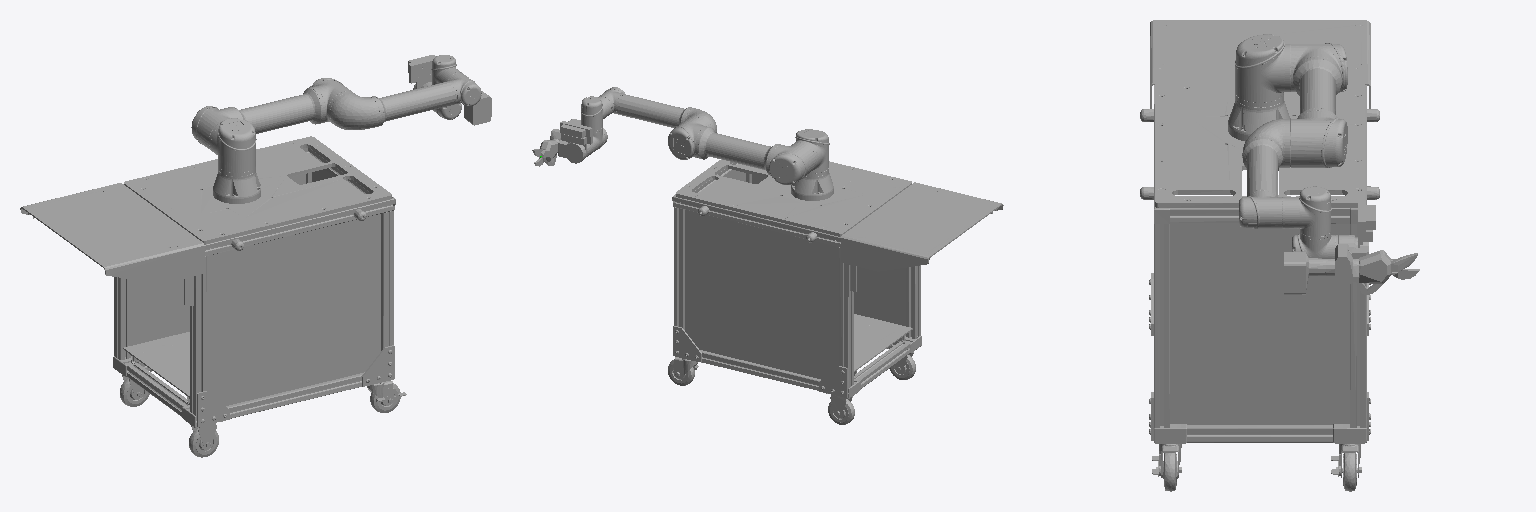
robot.urdf — ur5e:
<?xml version="1.0" ?>
<!-- =================================================================================== -->
<!-- |    This document was autogenerated by xacro from [local-path]/catkin_ws/src/fmauch_universal_robot/ur_e_description/urdf/ur5e_robot.urdf.xacro | -->
<!-- |    EDITING THIS FILE BY HAND IS NOT RECOMMENDED                                 | -->
<!-- =================================================================================== -->
<robot name="ur5e" xmlns:xacro="http://ros.org/wiki/xacro">
  <gazebo>
    <plugin filename="libgazebo_ros_control.so" name="ros_control">
      <!--robotNamespace>/</robotNamespace-->
      <!--robotSimType>gazebo_ros_control/DefaultRobotHWSim</robotSimType-->
    </plugin>
    <!--
    <plugin name="gazebo_ros_power_monitor_controller" filename="libgazebo_ros_power_monitor.so">
      <alwaysOn>true</alwaysOn>
      <updateRate>1.0</updateRate>
      <timeout>5</timeout>
      <powerStateTopic>power_state</powerStateTopic>
      <powerStateRate>10.0</powerStateRate>
      <fullChargeCapacity>87.78</fullChargeCapacity>
      <dischargeRate>-474</dischargeRate>
      <chargeRate>525</chargeRate>
      <dischargeVoltage>15.52</dischargeVoltage>
      <chargeVoltage>16.41</chargeVoltage>
    </plugin>
-->
  </gazebo>
  <!-- measured from model -->
  <!-- link lengths used in model -->
  <!-- manually measured -->
  <link name="mount_base"/>
  <joint name="y_gantry" type="fixed">
    <parent link="mount_base"/>
    <child link="mount"/>
    <origin rpy="0.0 0.0 0.0" xyz="0.0 0.0 0.0"/>
    <axis xyz="0 1 0"/>
    <limit effort="330.0" lower="-0.25" upper="0.25" velocity="0.2"/>
    <dynamics damping="0.0" friction="0.0"/>
  </joint>
  <link name="mount">
    <visual>
<!--	  <origin rpy="0.0 0.0 0.0" xyz="-0.02 0.0 0.0"/>-->
	  <origin rpy="0.0 0.0 0.0" xyz="0 0.0 0.0"/>
      <geometry>
        <mesh filename="ur5e/visual/robot_cart.obj"/>
      </geometry>
      <material name="LightGrey">
        <color rgba="0.7 0.7 0.7 1.0"/>
      </material>
      <material name="LightGrey">
        <color rgba="0.7 0.7 0.7 1.0"/>
      </material>
    </visual>
    <collision>
<!--	  <origin rpy="0.0 0.0 0.0" xyz="-0.02 0.0 0.0"/>-->
	  <origin rpy="0.0 0.0 0.0" xyz="0 0.0 -0.3786"/>
      <geometry>
<!--        <box size="0.04 0.5 0.5"/>-->
        <box size="0.5 0.5 0.75711"/>
      </geometry>
    </collision>
    <inertial>
      <mass value="4.0"/>
      <origin rpy="0 0 0" xyz="0.0 0.0 0.0"/>
      <inertia ixx="0.006106" ixy="0.0" ixz="0.0" iyy="0.006106" iyz="0.0" izz="0.01125"/>
    </inertial>
  </link>
  <joint name="mount_base_joint" type="fixed">
    <parent link="mount"/>
    <child link="base_link"/>
<!--    <origin rpy="0.0 1.570796 0.0" xyz="0.0 0.0 0.0"/>-->
    <origin rpy="0.0 0.0 -1.5708" xyz="0.0 0.0 0.0"/>
    <axis xyz="0 0 1"/>
  </joint>
  <link name="base_link">
    <visual>
      <origin rpy="0 0 3.14159265359" xyz="0 0 0"/>
      <geometry>
        <mesh filename="ur5e/visual/base.dae"/>
      </geometry>
      <material name="LightGrey">
        <color rgba="0.7 0.7 0.7 1.0"/>
      </material>
    </visual>
    <collision>
      <origin rpy="0 0 3.14159265359" xyz="0 0 0"/>
      <geometry>
        <mesh filename="ur5e/collision/base.stl"/>
      </geometry>
    </collision>
    <inertial>
      <mass value="4.0"/>
      <origin rpy="0 0 0" xyz="0.0 0.0 0.0"/>
      <inertia ixx="0.00443333156" ixy="0.0" ixz="0.0" iyy="0.00443333156" iyz="0.0" izz="0.0072"/>
    </inertial>
  </link>
  <joint name="shoulder_pan_joint" type="revolute">
    <parent link="base_link"/>
    <child link="shoulder_link"/>
    <origin rpy="0 0 3.14159265774" xyz="0 0 0.162509611124"/>
    <axis xyz="0 0 1"/>
    <limit effort="150.0" lower="-6.28318530718" upper="6.28318530718" velocity="3.14"/>
    <dynamics damping="0.0" friction="0.0"/>
  </joint>
  <link name="shoulder_link">
    <visual>
      <origin rpy="0 0 3.14159265359" xyz="0 0 0"/>
      <geometry>
        <mesh filename="ur5e/visual/shoulder.dae"/>
      </geometry>
      <material name="LightGrey">
        <color rgba="0.7 0.7 0.7 1.0"/>
      </material>
    </visual>
    <collision>
      <origin rpy="0 0 3.14159265359" xyz="0 0 0"/>
      <geometry>
        <mesh filename="ur5e/collision/shoulder.stl"/>
      </geometry>
    </collision>
    <inertial>
      <mass value="3.7"/>
      <origin rpy="0 0 0" xyz="0.0 0.0 0.0"/>
      <inertia ixx="0.010267495893" ixy="0.0" ixz="0.0" iyy="0.010267495893" iyz="0.0" izz="0.00666"/>
    </inertial>
  </link>
  <joint name="shoulder_lift_joint" type="revolute">
    <parent link="shoulder_link"/>
    <child link="upper_arm_link"/>
    <origin rpy="1.57201212277 0 -4.22293331334e-06" xyz="0.000175875481034 0 0"/>
    <axis xyz="0 0 1"/>
    <limit effort="150.0" lower="-6.28318530718" upper="6.28318530718" velocity="3.14"/>
    <dynamics damping="0.0" friction="0.0"/>
  </joint>
  <link name="upper_arm_link">
    <visual>
      <origin rpy="1.57079632679 0 -1.57079632679" xyz="0 0 0.138"/>
      <geometry>
        <mesh filename="ur5e/visual/upperarm.dae"/>
      </geometry>
      <material name="LightGrey">
        <color rgba="0.7 0.7 0.7 1.0"/>
      </material>
    </visual>
    <collision>
      <origin rpy="1.57079632679 0 -1.57079632679" xyz="0 0 0.138"/>
      <geometry>
        <mesh filename="ur5e/collision/upperarm.stl"/>
      </geometry>
    </collision>
    <inertial>
      <mass value="8.393"/>
      <origin rpy="0 1.57079632679 0" xyz="-0.212641211079 0.0 0.138"/>
      <inertia ixx="0.138302693282" ixy="0.0" ixz="0.0" iyy="0.138302693282" iyz="0.0" izz="0.0236053125"/>
    </inertial>
  </link>
  <joint name="elbow_joint" type="revolute">
    <parent link="upper_arm_link"/>
    <child link="forearm_link"/>
    <origin rpy="3.14087106174 3.14130791395 -3.1415908958" xyz="-0.425282422158 0 0"/>
    <axis xyz="0 0 1"/>
    <limit effort="150.0" lower="-3.14159265359" upper="3.14159265359" velocity="3.14"/>
    <dynamics damping="0.0" friction="0.0"/>
  </joint>
  <link name="forearm_link">
    <visual>
      <origin rpy="1.57079632679 0 -1.57079632679" xyz="0 0 0.007"/>
      <geometry>
        <mesh filename="ur5e/visual/forearm.dae"/>
      </geometry>
      <material name="LightGrey">
        <color rgba="0.7 0.7 0.7 1.0"/>
      </material>
    </visual>
    <collision>
      <origin rpy="1.57079632679 0 -1.57079632679" xyz="0 0 0.007"/>
      <geometry>
        <mesh filename="ur5e/collision/forearm.stl"/>
      </geometry>
    </collision>
    <inertial>
      <mass value="2.275"/>
      <origin rpy="0 1.57079632679 0" xyz="-0.212641211079 0.0 0.007"/>
      <inertia ixx="0.032394493594" ixy="0.0" ixz="0.0" iyy="0.032394493594" iyz="0.0" izz="0.0063984375"/>
    </inertial>
  </link>
  <joint name="wrist_1_joint" type="revolute">
    <parent link="forearm_link"/>
    <child link="wrist_1_link"/>
    <origin rpy="3.13857728923 -3.14158422042 3.14159213673" xyz="-0.392424671078 0.000403177258085 0.13370723674"/>
    <axis xyz="0 0 1"/>
    <limit effort="28.0" lower="-6.28318530718" upper="6.28318530718" velocity="6.28"/>
    <dynamics damping="0.0" friction="0.0"/>
  </joint>
  <link name="wrist_1_link">
    <visual>
      <origin rpy="1.57079632679 0 0" xyz="0 0 -0.127"/>
      <geometry>
        <mesh filename="ur5e/visual/wrist1.dae"/>
      </geometry>
      <material name="LightGrey">
        <color rgba="0.7 0.7 0.7 1.0"/>
      </material>
    </visual>
    <collision>
      <origin rpy="1.57079632679 0 0" xyz="0 0 -0.127"/>
      <geometry>
        <mesh filename="ur5e/collision/wrist1.stl"/>
      </geometry>
    </collision>
    <inertial>
      <mass value="1.219"/>
      <origin rpy="0 0 0" xyz="0.0 0.0 0.0"/>
      <inertia ixx="0.00272544945219" ixy="0.0" ixz="0.0" iyy="0.00272544945219" iyz="0.0" izz="0.0034284375"/>
    </inertial>
  </link>
  <joint name="wrist_2_joint" type="revolute">
    <parent link="wrist_1_link"/>
    <child link="wrist_2_link"/>
    <origin rpy="1.57047823229 0 -1.22657964634e-06" xyz="-3.59538768323e-05 -0.0997732519853 3.17373243326e-05"/>
    <axis xyz="0 0 1"/>
    <limit effort="28.0" lower="-6.28318530718" upper="6.28318530718" velocity="6.28"/>
    <dynamics damping="0.0" friction="0.0"/>
  </joint>
  <link name="wrist_2_link">
    <visual>
      <origin rpy="0 0 0" xyz="0 0 -0.0997"/>
      <geometry>
        <mesh filename="ur5e/visual/wrist2.dae"/>
      </geometry>
      <material name="LightGrey">
        <color rgba="0.7 0.7 0.7 1.0"/>
      </material>
    </visual>
    <collision>
      <origin rpy="0 0 0" xyz="0 0 -0.0997"/>
      <geometry>
        <mesh filename="ur5e/collision/wrist2.stl"/>
      </geometry>
    </collision>
    <inertial>
      <mass value="1.219"/>
      <origin rpy="0 0 0" xyz="0.0 0.0 0.0"/>
      <inertia ixx="0.00271885242747" ixy="0.0" ixz="0.0" iyy="0.00271885242747" iyz="0.0" izz="0.0034284375"/>
    </inertial>
  </link>
  <joint name="wrist_3_joint" type="revolute">
    <parent link="wrist_2_link"/>
    <child link="wrist_3_link"/>
    <origin rpy="1.57172710837 3.14159265359 3.14159251741" xyz="5.59741171522e-05 0.0994472713895 9.25637146449e-05"/>
    <axis xyz="0 0 1"/>
    <limit effort="28.0" lower="-6.28318530718" upper="6.28318530718" velocity="6.28"/>
    <dynamics damping="0.0" friction="0.0"/>
  </joint>
  <link name="wrist_3_link">
    <visual>
      <origin rpy="1.57079632679 0 0" xyz="0 0 -0.0989"/>
      <geometry>
        <mesh filename="ur5e/visual/wrist3.dae"/>
      </geometry>
      <material name="LightGrey">
        <color rgba="0.7 0.7 0.7 1.0"/>
      </material>
    </visual>
    <collision>
      <origin rpy="1.57079632679 0 0" xyz="0 0 -0.0989"/>
      <geometry>
        <mesh filename="ur5e/collision/wrist3.stl"/>
      </geometry>
    </collision>
    <inertial>
      <mass value="0.1879"/>
      <origin rpy="0 0 0" xyz="0.0 0.0 -0.025"/>
      <inertia ixx="0.000134270154625" ixy="0.0" ixz="0.0" iyy="0.000134270154625" iyz="0.0" izz="0.00019024875"/>
    </inertial>
  </link>
  <joint name="ee_fixed_joint" type="fixed">
    <parent link="wrist_3_link"/>
    <child link="ee_link"/>
    <origin rpy="0.0 -1.57079632679 1.57079632679" xyz="0.0 0.0 0.0"/>
  </joint>
  <link name="ee_link">
    <collision>
      <geometry>
        <box size="0.01 0.01 0.01"/>
      </geometry>
      <origin rpy="0 0 0" xyz="-0.01 0 0"/>
    </collision>
  </link>
  <transmission name="shoulder_pan_trans">
    <type>transmission_interface/SimpleTransmission</type>
    <joint name="shoulder_pan_joint">
      <hardwareInterface>hardware_interface/PositionJointInterface</hardwareInterface>
    </joint>
    <actuator name="shoulder_pan_motor">
      <mechanicalReduction>1</mechanicalReduction>
    </actuator>
  </transmission>
  <transmission name="shoulder_lift_trans">
    <type>transmission_interface/SimpleTransmission</type>
    <joint name="shoulder_lift_joint">
      <hardwareInterface>hardware_interface/PositionJointInterface</hardwareInterface>
    </joint>
    <actuator name="shoulder_lift_motor">
      <mechanicalReduction>1</mechanicalReduction>
    </actuator>
  </transmission>
  <transmission name="elbow_trans">
    <type>transmission_interface/SimpleTransmission</type>
    <joint name="elbow_joint">
      <hardwareInterface>hardware_interface/PositionJointInterface</hardwareInterface>
    </joint>
    <actuator name="elbow_motor">
      <mechanicalReduction>1</mechanicalReduction>
    </actuator>
  </transmission>
  <transmission name="wrist_1_trans">
    <type>transmission_interface/SimpleTransmission</type>
    <joint name="wrist_1_joint">
      <hardwareInterface>hardware_interface/PositionJointInterface</hardwareInterface>
    </joint>
    <actuator name="wrist_1_motor">
      <mechanicalReduction>1</mechanicalReduction>
    </actuator>
  </transmission>
  <transmission name="wrist_2_trans">
    <type>transmission_interface/SimpleTransmission</type>
    <joint name="wrist_2_joint">
      <hardwareInterface>hardware_interface/PositionJointInterface</hardwareInterface>
    </joint>
    <actuator name="wrist_2_motor">
      <mechanicalReduction>1</mechanicalReduction>
    </actuator>
  </transmission>
  <transmission name="wrist_3_trans">
    <type>transmission_interface/SimpleTransmission</type>
    <joint name="wrist_3_joint">
      <hardwareInterface>hardware_interface/PositionJointInterface</hardwareInterface>
    </joint>
    <actuator name="wrist_3_motor">
      <mechanicalReduction>1</mechanicalReduction>
    </actuator>
  </transmission>

  <!-- ROS base_link to UR 'Base' Coordinates transform -->
  <link name="base"/>
  <joint name="base_link-base_fixed_joint" type="fixed">
    <!-- NOTE: this rotation is only needed as long as base_link itself is
                 not corrected wrt the real robot (ie: rotated over 180
                 degrees)
      -->
    <origin rpy="0 0 -3.14159265359" xyz="0 0 0"/>
    <parent link="base_link"/>
    <child link="base"/>
  </joint>
  <!-- Frame coincident with all-zeros TCP on UR controller -->
  <link name="tool0"/>
  <joint name="wrist_3_link-tool0_fixed_joint" type="fixed">
    <origin rpy="0 0 0" xyz="0 0 0"/>
    <parent link="wrist_3_link"/>
    <child link="tool0"/>
  </joint>

  <link name="camera_mount">
    <visual>
      <origin rpy="0 0 0" xyz="0 0 0"/>
      <geometry>
        <mesh filename="ur5e/visual/camera_mount.dae" scale="1.0 1.0 1.0"/>
      </geometry>
      <material name="LightGrey"/>
    </visual>
    <!-- Camera collision -->

        <collision>
          <origin rpy="0 0 0" xyz="0 0.0725 0.025" />
          <geometry>
            <box size="0.121 0.060 0.050" />
          </geometry>
        </collision>
        <inertial>
      <origin rpy="0 0 0" xyz="1.0E-08 1.0E-08 1.0E-08"/>
      <mass value="1.0E-08"/>
      <inertia ixx="1.0E-08" ixy="1.0E-08" ixz="1.0E-08" iyy="1.0E-08" iyz="1.0E-08" izz="1.0E-08"/>
    </inertial>
  </link>

  <joint name="camera_mount" type="fixed">
      <origin rpy="0 0 0" xyz="0 0 0"/>
    <axis xyz="0 0 1"/>
    <parent link="tool0"/>
    <child link="camera_mount"/>
  </joint>

  <link name="cutter">
    <visual>
      <origin rpy="0 0 0" xyz="0 0 0.006"/>
      <geometry>
        <!--<mesh filename="ur5e/visual/new_cutter.dae" scale="1.0 1.0 1.0"/>-->
        <mesh filename="ur5e/collision/new-cutter-convexified.obj" scale="1.0 1.0 1.0"/>
      </geometry>
      <material name="LightGrey"/>
    </visual>

     <collision>
      <origin rpy="0 0 0" xyz="0 0 0.006"/>
      <geometry>
        <mesh filename="ur5e/collision/new-cutter-convexified.obj" scale="1.0 1.0 1.0"/>
      </geometry>
    </collision>

        <!-- Tool/cutter collision-->

        <!-- Extra width on the end effector - This one is barely necessary, would never have a collision here -->
<!--        <collision>-->
<!--          <origin rpy="0 0 0" xyz="0 0 0.016" />-->
<!--          <geometry>-->
<!--            <cylinder radius="0.035" length="0.02" />-->
<!--          </geometry>-->
<!--        </collision>-->

        <!-- Cylinder for t
        he tool as a whole -->
<!--        <collision>-->
<!--          <origin xyz="-0.09 -0.01437 -0.01781" rpy="0 0 0" />-->
<!--          <geometry>-->
<!--            <cylinder radius="0.035" length="0.310" />-->
<!--          </geometry>-->
<!--        </collision>-->

<!--        &lt;!&ndash; Box for the battery pack thing &ndash;&gt;-->
<!--        <collision>-->
<!--              <origin xyz="-0.09197 -0.01500 -0.15356" rpy="0 0 0" />-->
<!--              <geometry>-->
<!--                <box size="0.07 0.084 0.06" />-->
<!--              </geometry>-->
<!--        </collision>-->

<!--&lt;!&ndash;        &lt;!&ndash; Updated cylinder - drawn to be thinner, more precise &ndash;&gt;&ndash;&gt;-->
<!--        <collision>-->
<!--          <origin xyz="-0.09215 0 -0.0120" rpy="0 0 0" />-->
<!--          <geometry>-->
<!--            <cylinder radius="0.021" length="0.230" />-->
<!--          </geometry>-->
<!--        </collision>-->

<!--        &lt;!&ndash; Boxes for the clamp - Tightly drawn &ndash;&gt;-->

<!--        <collision>-->
<!--              <origin xyz="-0.08340 0 -0.03650" rpy="0 0 0" />-->
<!--              <geometry>-->
<!--                <box size="0.072 0.084 0.04" />-->
<!--              </geometry>-->
<!--        </collision>-->

<!--        <collision>-->
<!--              <origin xyz="-0.05740 0 -0.014" rpy="0 0 0" />-->
<!--              <geometry>-->
<!--                <box size="0.02 0.05 0.08" />-->
<!--              </geometry>-->
<!--        </collision>-->




    <inertial>
      <origin rpy="0 0 0" xyz="1.0E-08 1.0E-08 1.0E-08"/>
      <mass value="1.0E-08"/>
      <inertia ixx="1.0E-08" ixy="1.0E-08" ixz="1.0E-08" iyy="1.0E-08" iyz="1.0E-08" izz="1.0E-08"/>
    </inertial>
  </link>
  <joint name="cutter" type="fixed">
      <origin rpy="0 0 0" xyz="0 0 0"/>
    <axis xyz="0 0 1"/>
    <parent link="camera_mount"/>
    <child link="cutter"/>
  </joint>
  <link name="endpoint">
    <visual>
      <origin rpy="0 0 0" xyz="0 0 0"/>
      <geometry>
        <sphere radius="0.002" />
      </geometry>
      <material name="red">
        <color rgba="1 0 0 1" />
      </material>
    </visual>
  </link>
  <joint name="endpoint" type="fixed">
<!--    <origin rpy="0 0 0" xyz="0 0.09721 0.24210"/>  &lt;!&ndash; Left down out &ndash;&gt;-->
<!--    <origin rpy="0 0 0" xyz="-0.00425 0.08971 0.24210"/> &lt;!&ndash;USE THIS ONE IF THE IK FOR BELOW DOESNT DO BETTER&ndash;&gt;-->
    <origin rpy="0 0 3.14159" xyz="-0.09286 -0.00511 0.09707"/>

    <axis xyz="0 0 1"/>
    <parent link="cutter"/>
    <child link="endpoint"/>
  </joint>
  <link name="cutpoint">
    <visual>
      <origin rpy="0 0 0" xyz="0.0 0.0 0.0"/>
      <geometry>
        <sphere radius="0.006" />
      </geometry>
      <material name="green">
        <color rgba="0 1 0 1" />
      </material>
    </visual>
  </link>
  <joint name="cutpoint" type="fixed">
    <origin rpy="0 0 0" xyz="0 0 0"/>  <!-- Left down out -->
    <parent link="endpoint"/>
    <child link="cutpoint"/>
  </joint>
<!--  <link name="cutter_obst">-->
<!--    <collision>-->
<!--      <origin rpy="0 0 0" xyz="-0.008 -0.13 -0.28"/>-->
<!--      <geometry>-->
<!--        <box size="0.1 0.145 0.15"/>-->
<!--      </geometry>-->
<!--    </collision>-->
<!--    <inertial>-->
<!--      <origin rpy="0 0 0" xyz="1.0E-08 1.0E-08 1.0E-08"/>-->
<!--      <mass value="1.0E-08"/>-->
<!--      <inertia ixx="1.0E-08" ixy="1.0E-08" ixz="1.0E-08" iyy="1.0E-08" iyz="1.0E-08" izz="1.0E-08"/>-->
<!--    </inertial>-->
<!--  </link>-->
<!--  <joint name="cutter_obst" type="fixed">-->
<!--      <origin rpy="0 0 0" xyz="0 0.093 0.213"/>-->
<!--    <axis xyz="0 0 1"/>-->
<!--    <parent link="tool0"/>-->
<!--    <child link="cutter_obst"/>-->
<!--  </joint>-->
  <link name="world"/>
  <joint name="world_joint" type="fixed">
    <parent link="world"/>
    <child link="mount_base"/>
    <origin rpy="0.0 0.0 1.5708" xyz="0.0 0.0 0.75711"/>
  </joint>
</robot>

--- What the picture shows (computed from the rendered views, not written in the file) ---
The picture shows the robot from 3 angles, left to right: view 1: azimuth 30°, elevation 25°; view 2: azimuth 150°, elevation 25°; view 3: azimuth 270°, elevation 25°; orthographic projection.
Robot: ur5e — 17 links, 16 joints (6 revolute, 10 fixed); root link world; default pose: every joint at zero.
Visible links, largest first — view 1: mount, forearm_link, upper_arm_link, shoulder_link, base_link, camera_mount, cutter, wrist_1_link; view 2: mount, upper_arm_link, forearm_link, cutter, base_link, shoulder_link, wrist_1_link, camera_mount; view 3: mount, upper_arm_link, cutter, forearm_link, shoulder_link, wrist_1_link, base_link, wrist_2_link, camera_mount.
Boxes of the visible links, x1,y1,x2,y2 form: mount: [20, 136, 406, 457]; forearm_link: [330, 72, 481, 129]; upper_arm_link: [191, 78, 354, 151]; shoulder_link: [209, 118, 256, 172]; base_link: [213, 166, 260, 203]; camera_mount: [408, 55, 435, 88]; cutter: [413, 75, 491, 125]; wrist_1_link: [431, 55, 461, 84]; mount: [668, 159, 1003, 424]; upper_arm_link: [668, 115, 815, 184]; forearm_link: [599, 87, 716, 132]; cutter: [532, 119, 585, 166]; base_link: [791, 168, 833, 200]; shoulder_link: [795, 129, 829, 172]; wrist_1_link: [581, 96, 611, 132]; camera_mount: [560, 121, 592, 157]; mount: [1140, 20, 1379, 491]; upper_arm_link: [1285, 43, 1347, 167]; cutter: [1284, 242, 1419, 294]; forearm_link: [1239, 119, 1284, 228]; shoulder_link: [1235, 34, 1290, 102]; wrist_1_link: [1285, 186, 1331, 239]; base_link: [1228, 93, 1290, 141]; wrist_2_link: [1292, 234, 1337, 258]; camera_mount: [1358, 201, 1375, 247].
Size in the robot's own frame: 1.57 by 0.6661 by 0.9897 metres.
Meshes: 10 distinct files referenced, 10 mesh visuals loaded (8 Collada DAE, 2 OBJ).
